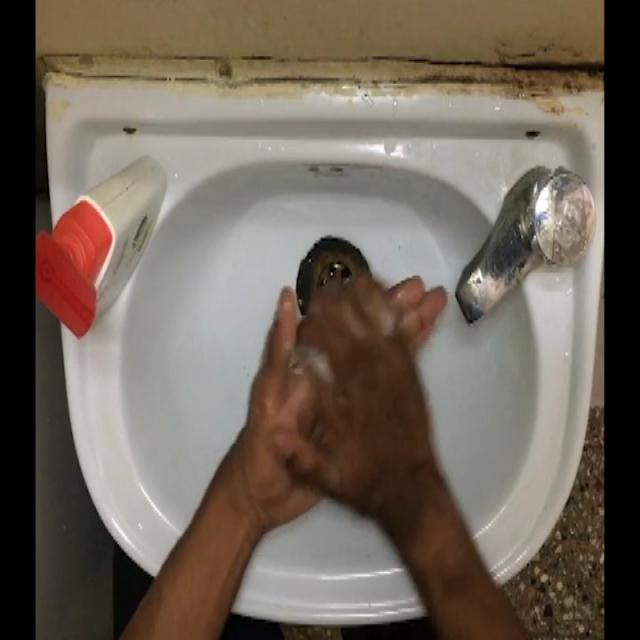step_5: (262, 260, 452, 533)
